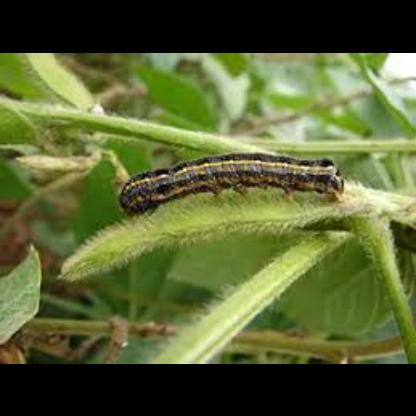oruga: (116, 152, 348, 218)
